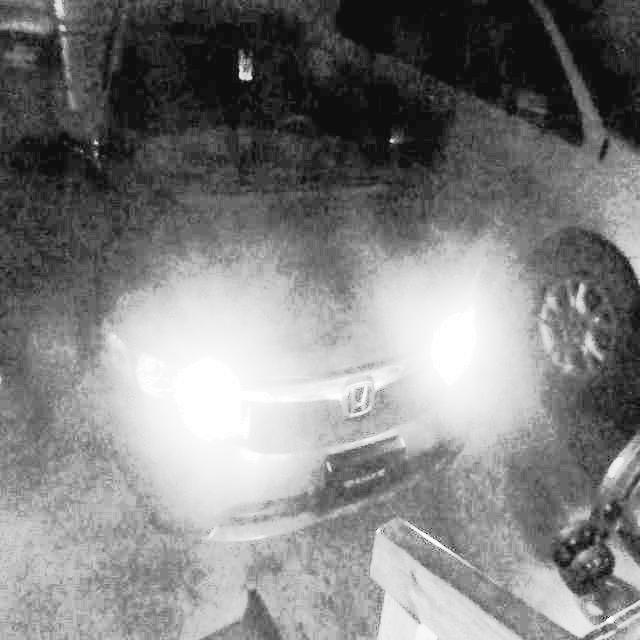Car: (31, 2, 475, 555)
